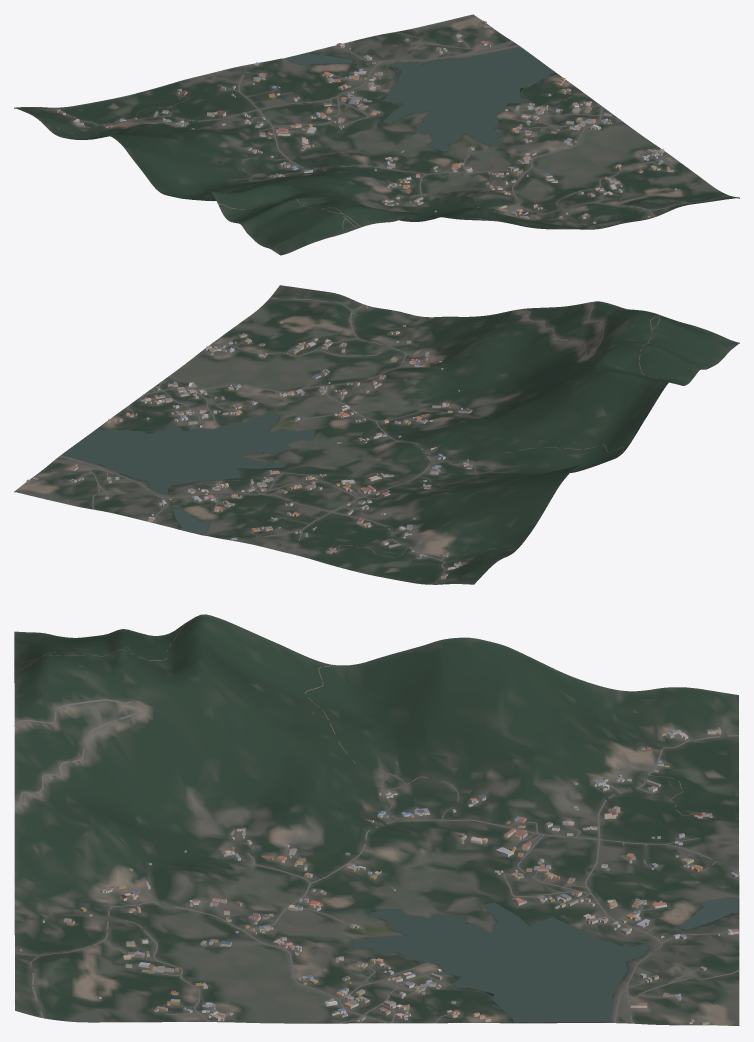
3 renders of one model, top to bottom at view 1: azimuth 30°, elevation 25°; view 2: azimuth 150°, elevation 25°; view 3: azimuth 270°, elevation 25°, orthographic. The views are drawn at different scales.
Parts seen in each view (by area): view 1: ground, water, buildings, roads; view 2: ground, water, buildings, roads; view 3: ground, water, buildings, roads.
Boxes of the visible parts, x1,y1,x2,y2 form: ground: (14,14,739,255); water: (286,47,555,151); buildings: (56,20,676,223); roads: (54,32,729,228); ground: (14,285,739,584); water: (62,412,315,534); buildings: (26,306,473,579); roads: (53,298,662,584); ground: (14,614,739,1025); water: (349,897,738,1022); buildings: (19,727,738,1025); roads: (14,623,739,1023).
Bounding box in the file's own units: 1399 × 248 × 1405.
